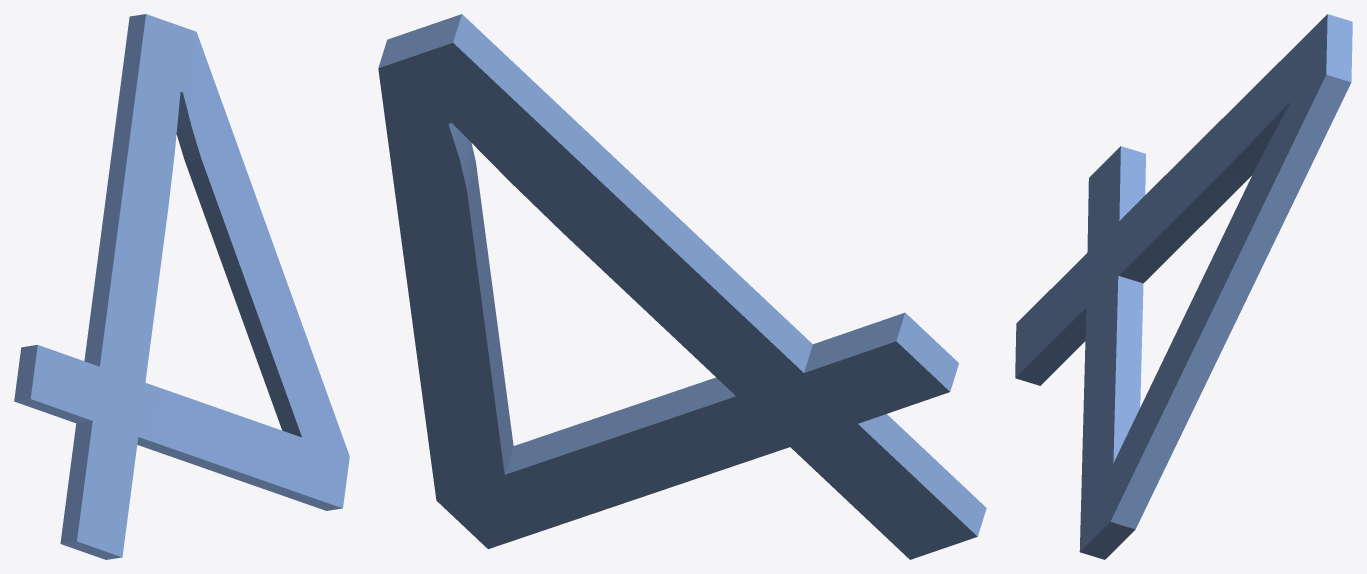
Rendered from New_Number_4.gltf.
The picture shows the model from 3 angles, left to right: view 1: azimuth 30°, elevation 25°; view 2: azimuth 150°, elevation 25°; view 3: azimuth 270°, elevation 25°; orthographic projection. The views are drawn at different scales.
Parts seen in each view (by area): view 1: Part 535; view 2: Part 535; view 3: Part 535.
Part boxes in pixels (<box>): Part 535: <box>14,14,349,559</box>; Part 535: <box>378,14,986,559</box>; Part 535: <box>1015,14,1352,559</box>.
Size of the model in its own units: 0.00385 by 0.0049 by 0.00299.
